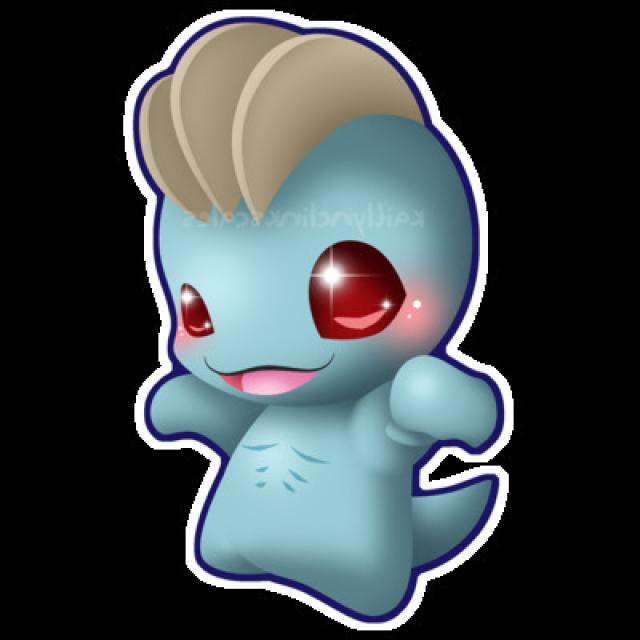Machop: (118, 15, 497, 625)
